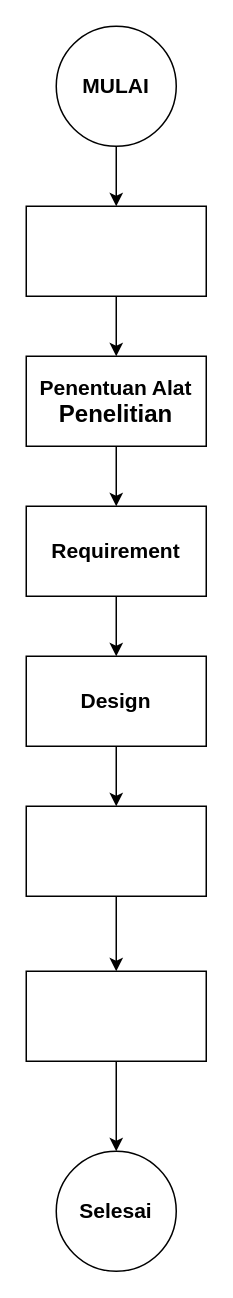
The diagram is 233 pixels wide and 1298 high, and some of its shapes have lost their labels. Each missing label, with the centre of its shape:
"Implementation" belongs at point 115,850.
"Pengumpulan Data" belongs at point 115,250.
"Verification" belongs at point 115,1015.
